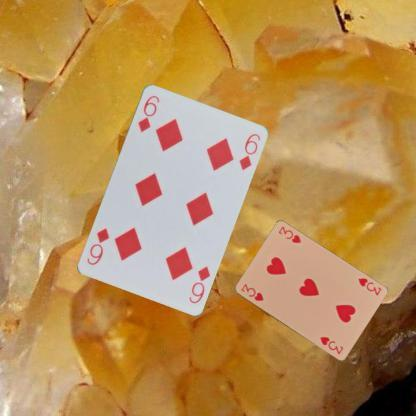3h: (238, 280, 265, 302), (355, 275, 382, 297)
6d: (186, 262, 212, 304), (136, 92, 160, 134)
